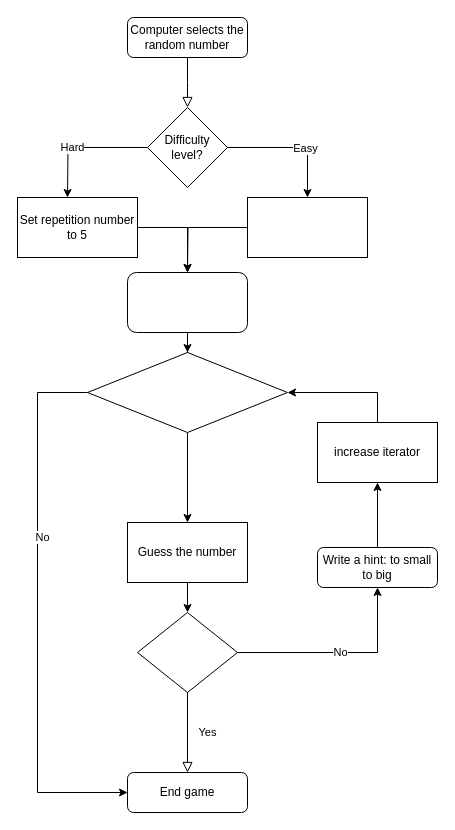
Some shapes in this 455 by 830 pixel diagram are drawn without their labels. The centre of each missing label's shape, as x and y in pixels:
"Do you have repetitions availabe?" goes at (x=187, y=392).
"is it the selected number?" goes at (x=187, y=652).
"Set repetition number to 10" goes at (x=307, y=227).
"Start iterator" goes at (x=187, y=302).
